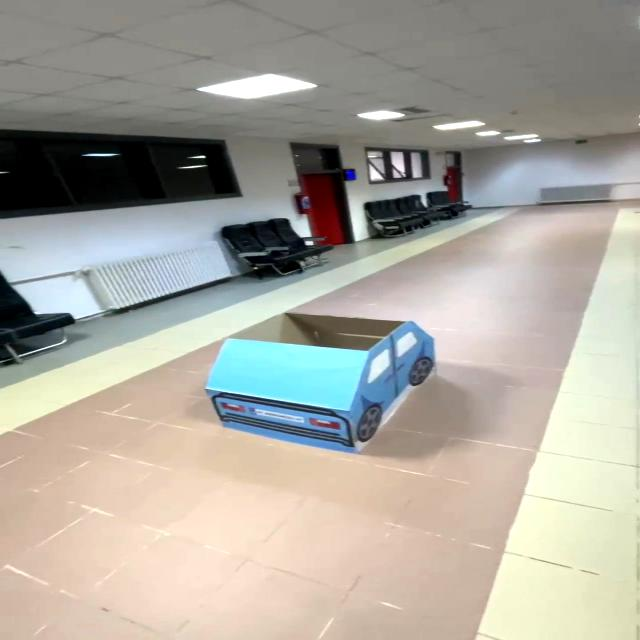blue_car: (176, 286, 469, 481)
